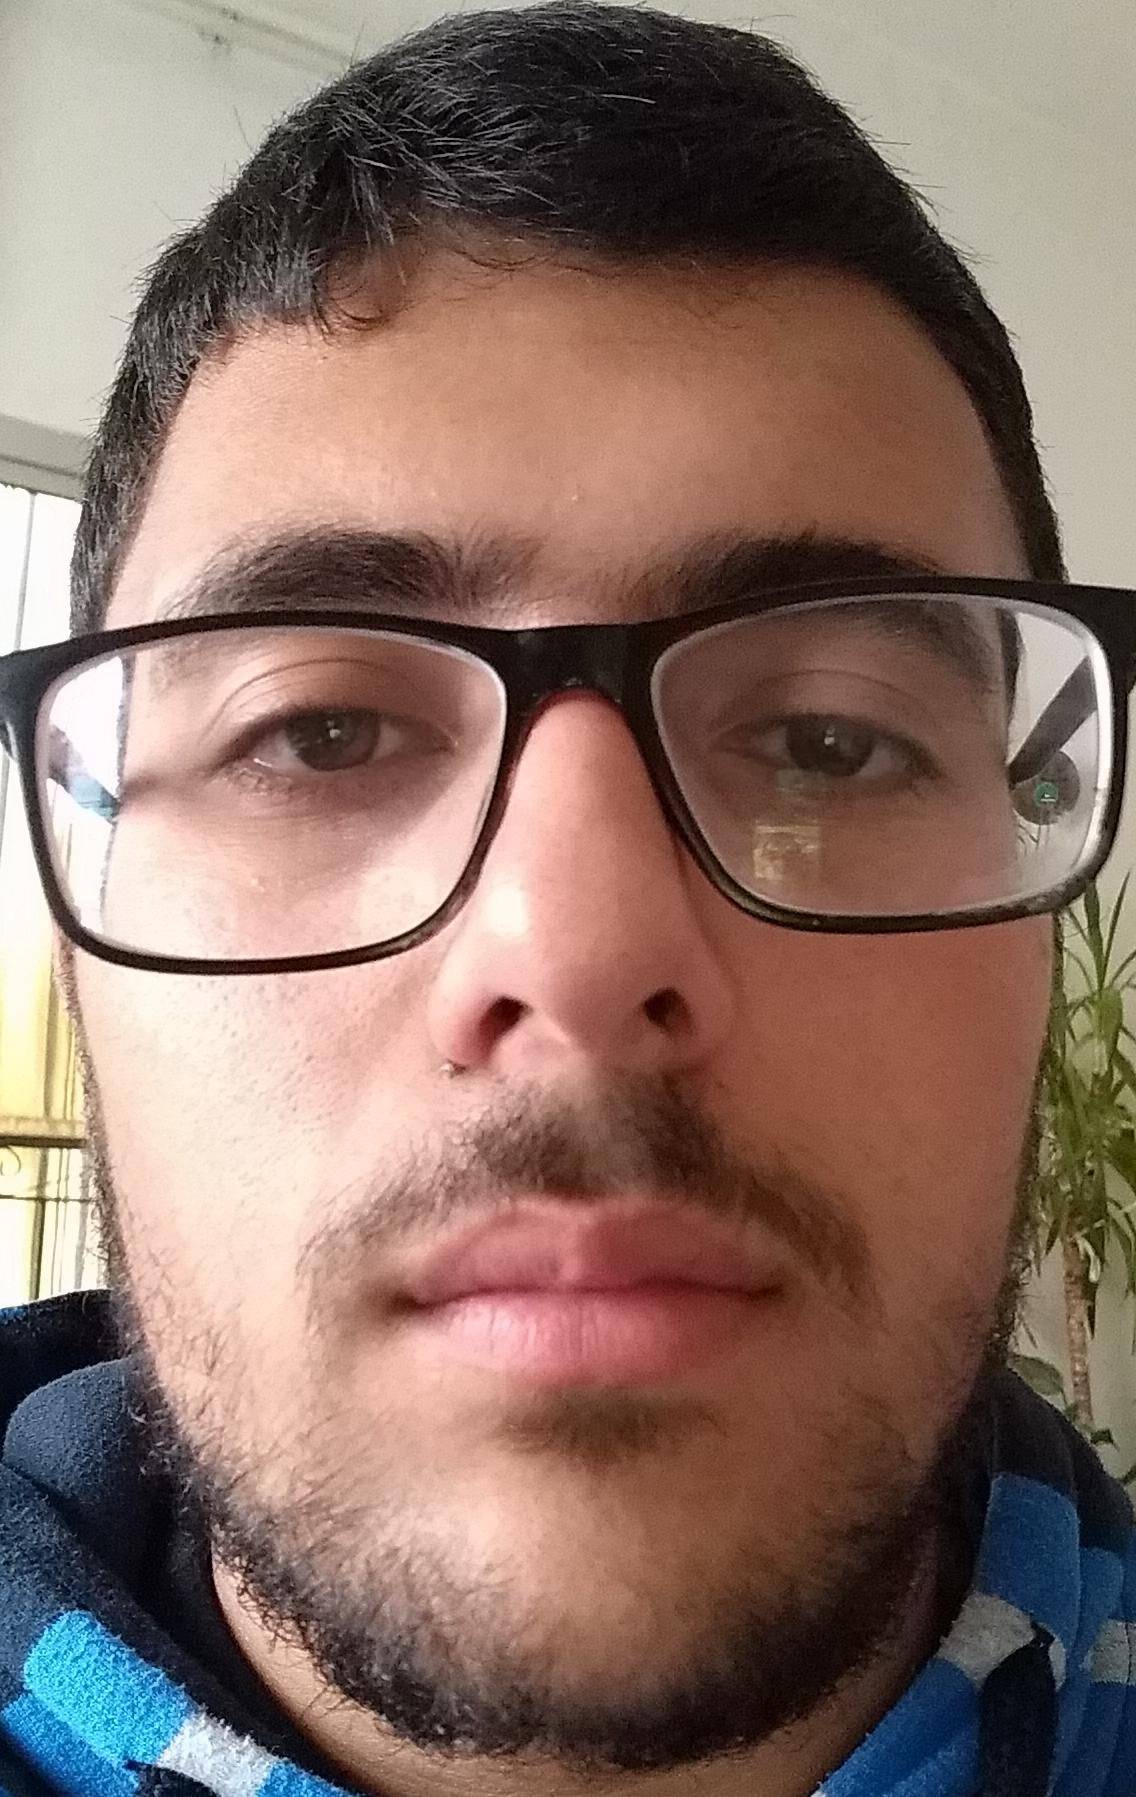face: (49, 18, 1060, 1751)
